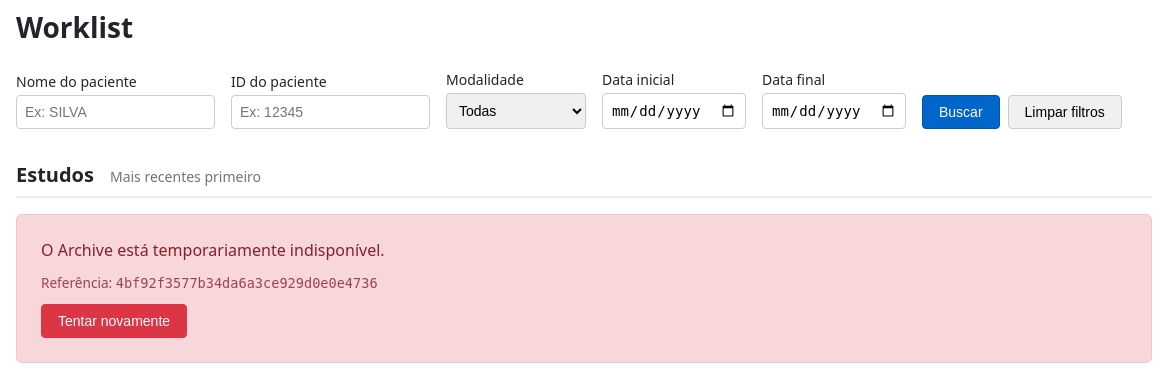
WorklistPage › exibe erro de Archive indisponível e permite Tentar novamente
Check: the message is shown, box [16, 214, 1152, 363]
Check: the message shows "O Archive está temporariamente indisponível.", box [41, 239, 385, 261]
What coordinates should you click on to do the following:
click the button "Tentar novamente"
I would click on:
 (114, 321)
Its box is [41, 304, 187, 338].
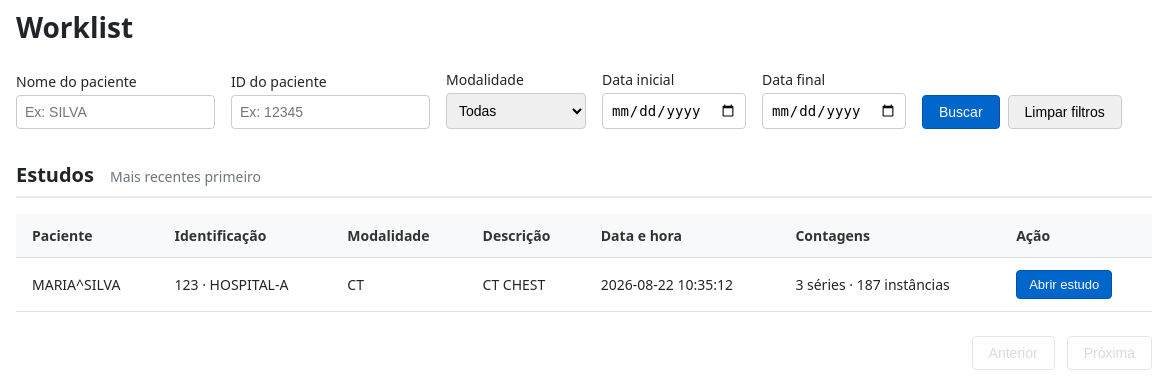
Check: the table with test id "study-table" is shown, box [16, 214, 1152, 312]
